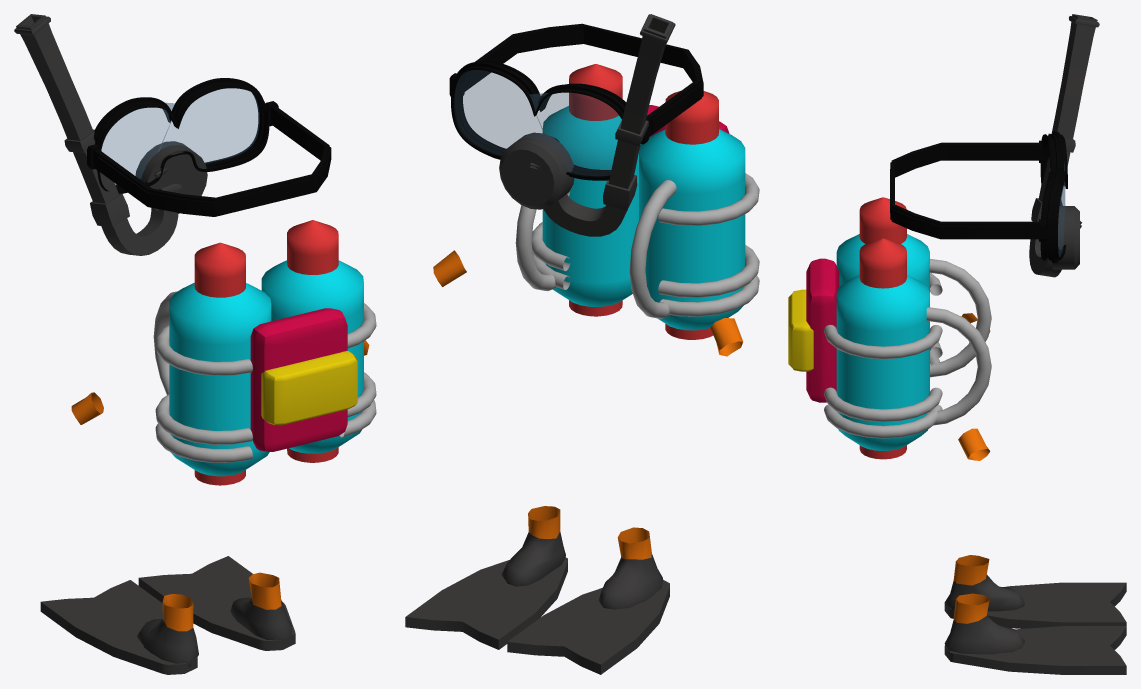
Rendered from diver_Boss.fbx.
3 renders of one model, left to right at view 1: azimuth 30°, elevation 25°; view 2: azimuth 150°, elevation 25°; view 3: azimuth 270°, elevation 25°, orthographic. The views are drawn at different scales.
Visible parts, largest first — view 1: polySurface4580, polySurface4567, polySurface4563, polySurface4564, polySurface4577; view 2: polySurface4580, polySurface4567, polySurface4563, polySurface4564, polySurface4577, polySurface4575; view 3: polySurface4580, polySurface4567, polySurface4564, polySurface4563, polySurface4575.
Part boxes in pixels (x1,y1,x2,y2): polySurface4580: (153,220,376,485); polySurface4567: (14,14,331,255); polySurface4563: (40,580,198,674); polySurface4564: (138,556,295,650); polySurface4577: (71,392,103,424); polySurface4580: (515,64,759,339); polySurface4567: (449,14,703,236); polySurface4563: (507,527,669,674); polySurface4564: (405,506,567,649); polySurface4577: (710,318,743,356); polySurface4575: (433,250,466,286); polySurface4580: (788,197,991,459); polySurface4567: (890,14,1099,277); polySurface4564: (944,593,1126,674); polySurface4563: (944,555,1126,628); polySurface4575: (958,428,990,460).
Size of the model in its own units: 102 by 206 by 112.
